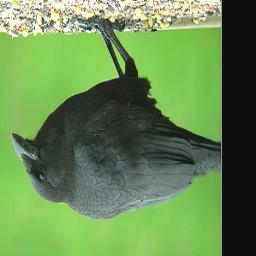Crow: (10, 9, 223, 219)
